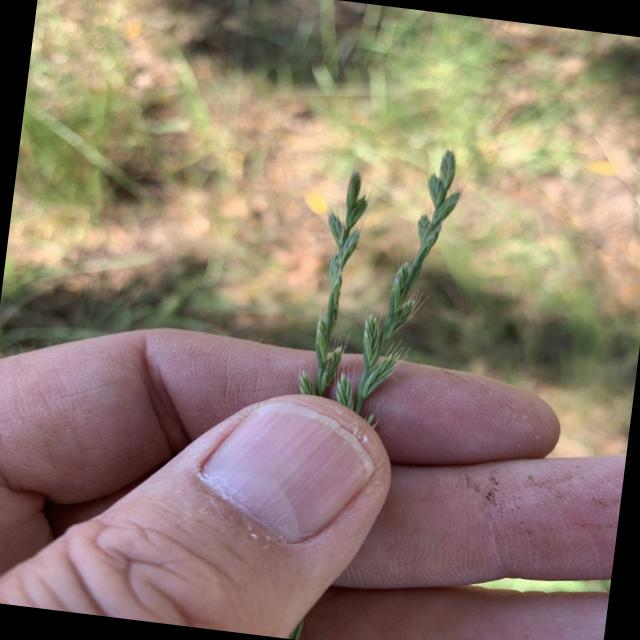Lolium: (290, 130, 472, 428)
